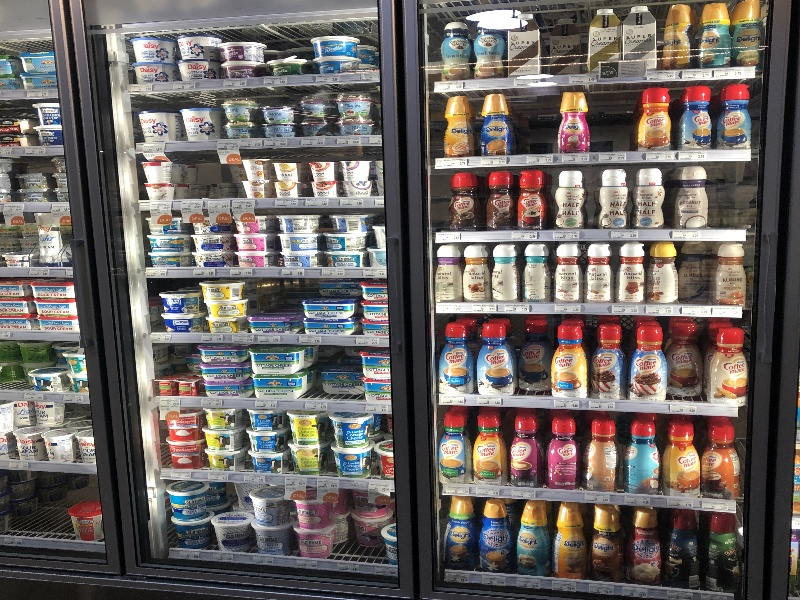void: (1, 478, 75, 534), (507, 312, 553, 393), (590, 79, 640, 151), (711, 165, 757, 227), (511, 96, 557, 152), (545, 9, 588, 67), (184, 158, 240, 201), (676, 242, 714, 302)
